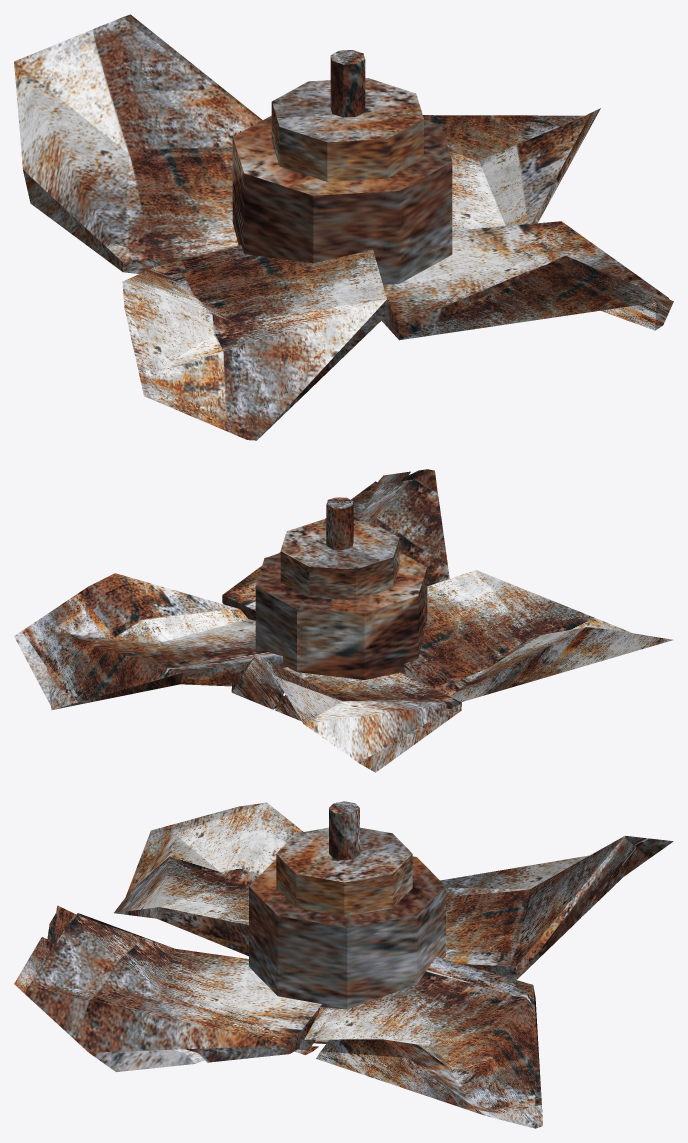
File: propellor.fbx
The picture shows the model from 3 angles, top to bottom: view 1: azimuth 30°, elevation 25°; view 2: azimuth 150°, elevation 25°; view 3: azimuth 270°, elevation 25°; orthographic projection. The views are drawn at different scales.
Visible parts, largest first — view 1: Cylinder.001; view 2: Cylinder.001; view 3: Cylinder.001.
Part boxes in pixels (<box>): Cylinder.001: <box>14,14,673,440</box>; Cylinder.001: <box>14,469,672,772</box>; Cylinder.001: <box>14,801,673,1128</box>.
Size of the model in its own units: 171 by 61.28 by 173.
